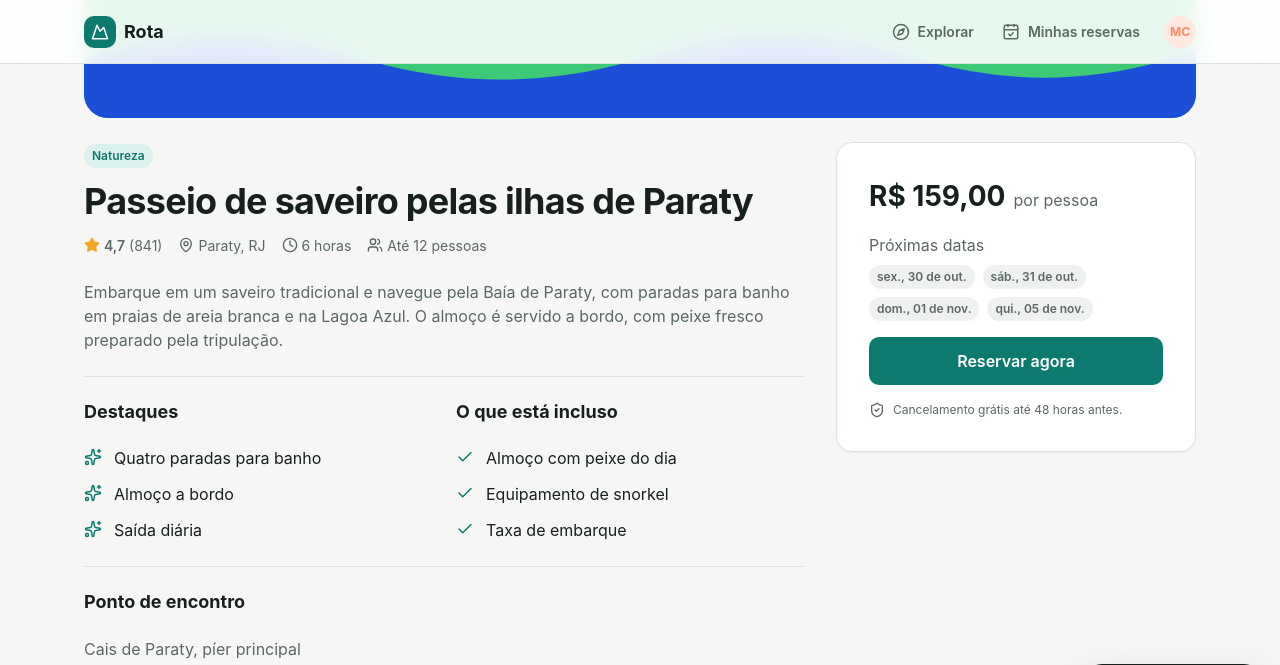
Test: Fluxo de reserva › navega do detalhe para o formulário
This screenshot has width=1280, height=665.
(page scrolled)
Click the link "Reservar agora" at (1016, 361), box [869,337,1163,385]
(page scrolled)
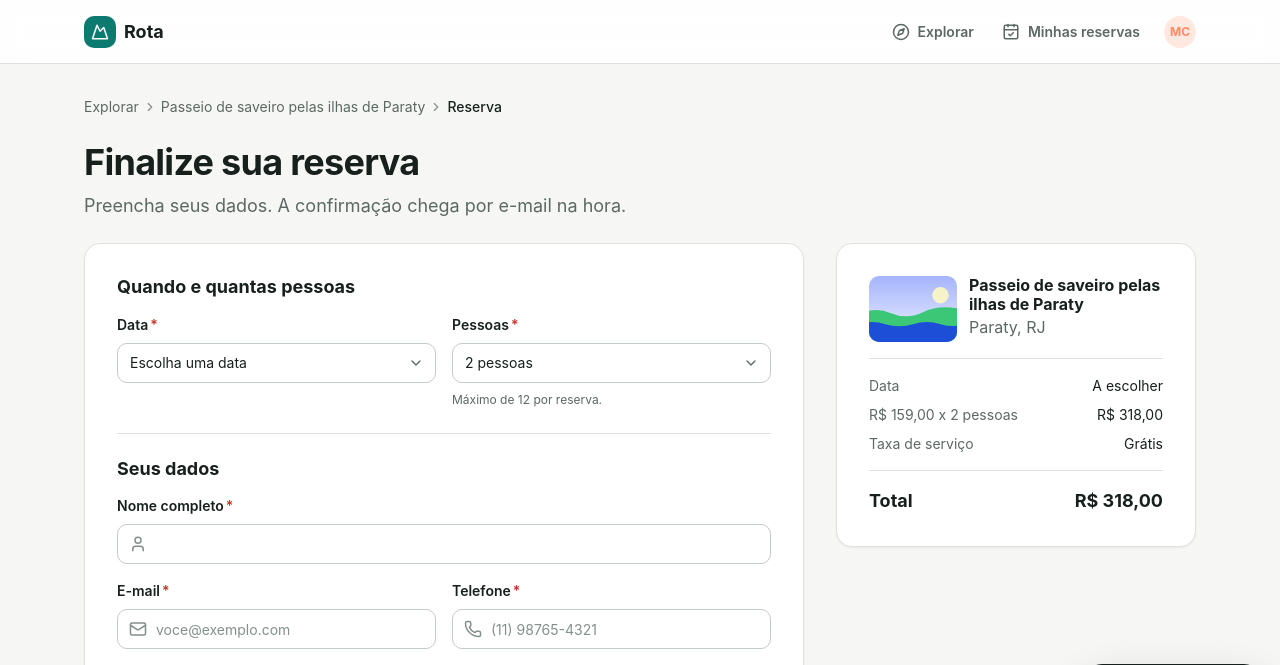
Result: the heading "Finalize sua reserva" is shown at [84,140,419,184]
